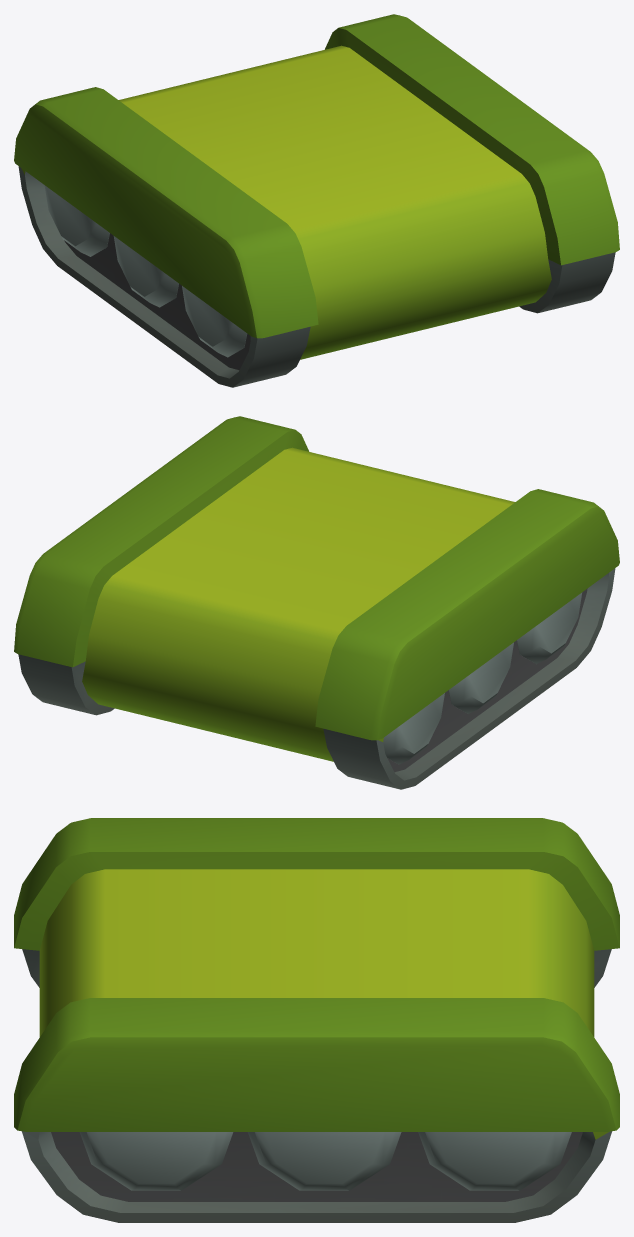
3 renders of one model, top to bottom at view 1: azimuth 30°, elevation 25°; view 2: azimuth 150°, elevation 25°; view 3: azimuth 270°, elevation 25°, orthographic. The views are drawn at different scales.
Parts seen in each view (by area): view 1: Base; view 2: Base; view 3: Base.
Boxes of the visible parts, box(x1,y1,x2,y2) form: Base: box(14, 14, 619, 387); Base: box(14, 416, 619, 789); Base: box(14, 818, 619, 1222).
Bounding box in the file's own units: 0.4717 × 0.188 × 0.543.
1 material, 1 textured.
